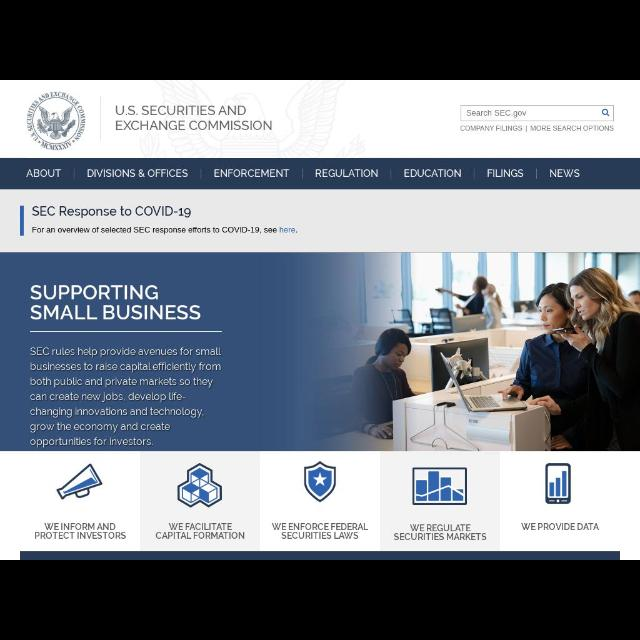backgroundimage: (98, 86, 348, 152)
icon: (599, 106, 611, 118)
image: (1, 252, 639, 450), (22, 86, 88, 152), (408, 463, 470, 507), (174, 462, 222, 508), (52, 460, 104, 502), (300, 456, 338, 502), (28, 327, 224, 335), (540, 460, 574, 506), (18, 204, 27, 236)
input: (462, 104, 614, 120)
multitab: (3, 158, 639, 188)
text: (30, 345, 222, 447), (28, 284, 204, 324), (116, 106, 270, 132), (30, 225, 298, 235), (268, 520, 370, 542), (154, 518, 246, 542), (31, 520, 129, 540), (32, 205, 192, 217), (398, 520, 486, 540), (84, 166, 188, 182), (519, 519, 599, 531), (528, 122, 614, 132), (218, 168, 290, 178), (544, 165, 584, 183), (314, 168, 380, 178), (400, 168, 462, 178), (486, 167, 526, 180), (459, 124, 521, 132), (23, 168, 63, 180), (466, 110, 526, 116)
toolbar: (3, 82, 639, 156)
